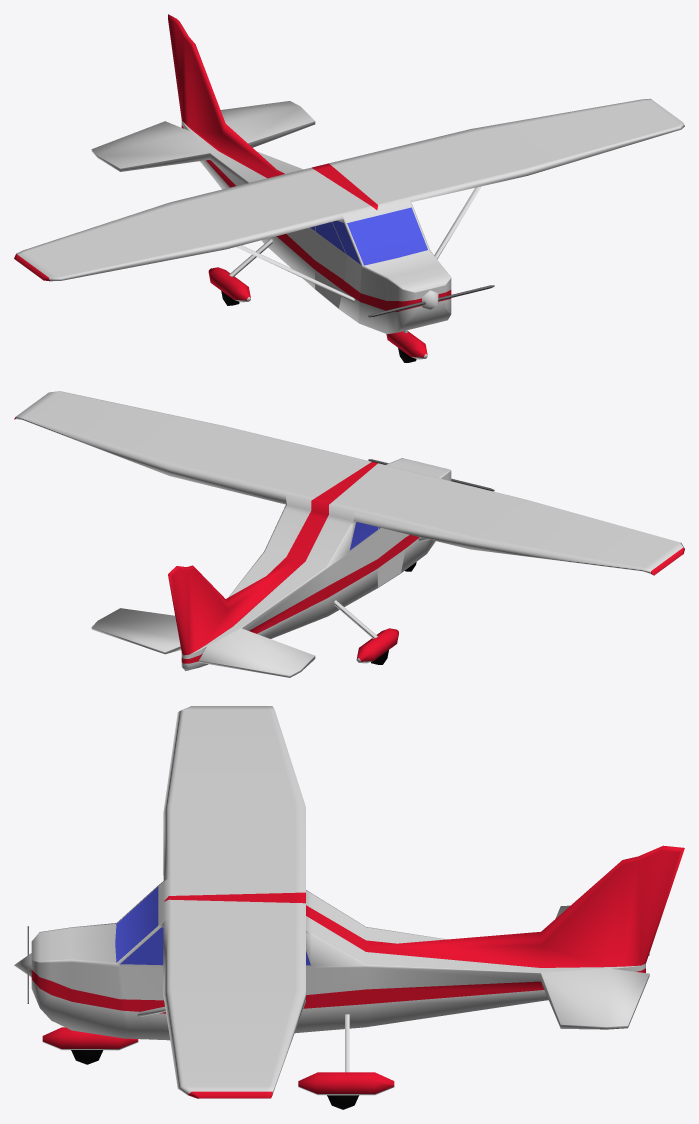
The model's file is SM_Airplane_001.fbx.
The picture shows the model from 3 angles, top to bottom: view 1: azimuth 30°, elevation 25°; view 2: azimuth 150°, elevation 25°; view 3: azimuth 270°, elevation 25°; orthographic projection. The views are drawn at different scales.
Parts seen in each view (by area): view 1: Airplane; view 2: Airplane; view 3: Airplane.
Part boxes in pixels (box(x1,y1,x2,y2)): Airplane: box(14, 14, 684, 362); Airplane: box(14, 391, 684, 677); Airplane: box(14, 706, 684, 1109).
Bounding box in the file's own units: 450 × 117 × 328.
